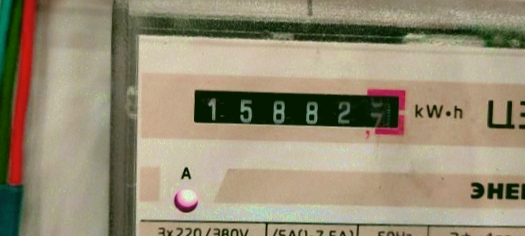1: (202, 93, 218, 121)
2: (333, 97, 351, 126)
5: (234, 95, 254, 123)
7: (365, 109, 382, 126)
8: (267, 96, 285, 125), (301, 97, 318, 125)
screen: (177, 72, 414, 143)
